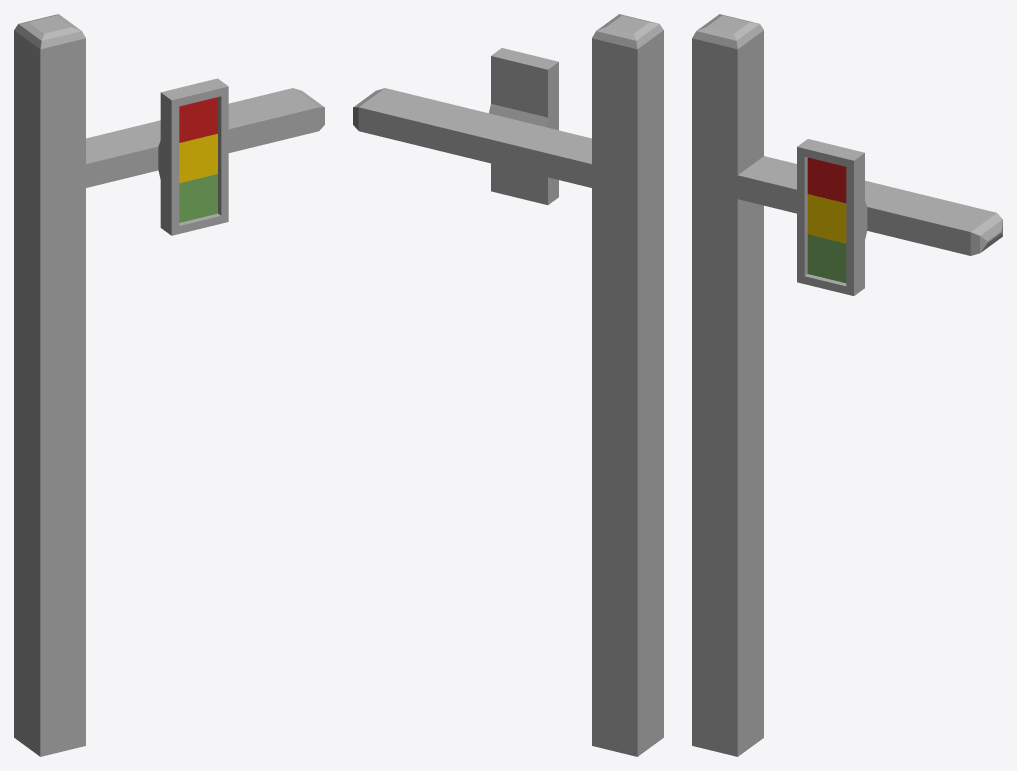
Rendered from Lampu Merah (2).fbx.
The picture shows the model from 3 angles, left to right: view 1: azimuth 30°, elevation 25°; view 2: azimuth 150°, elevation 25°; view 3: azimuth 330°, elevation 25°; orthographic projection.
Visible parts, largest first — view 1: Tiang, Kuning, Hijau, Merah; view 2: Tiang; view 3: Tiang, Kuning, Hijau, Merah.
Part boxes in pixels (box(x1,y1,x2,y2)): Tiang: box(14, 14, 324, 756); Kuning: box(179, 133, 217, 183); Hijau: box(179, 174, 217, 222); Merah: box(179, 97, 217, 142); Tiang: box(353, 14, 663, 756); Tiang: box(692, 14, 1002, 756); Kuning: box(807, 194, 846, 243); Hijau: box(807, 234, 846, 283); Merah: box(807, 157, 846, 203).
Bounding box in the file's own units: 380 × 900 × 90.
